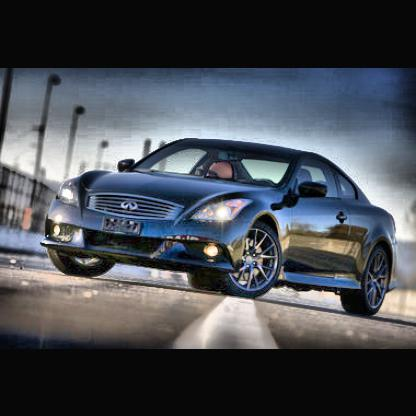Infiniti G Coupe IPL 2012: (42, 138, 399, 317)
